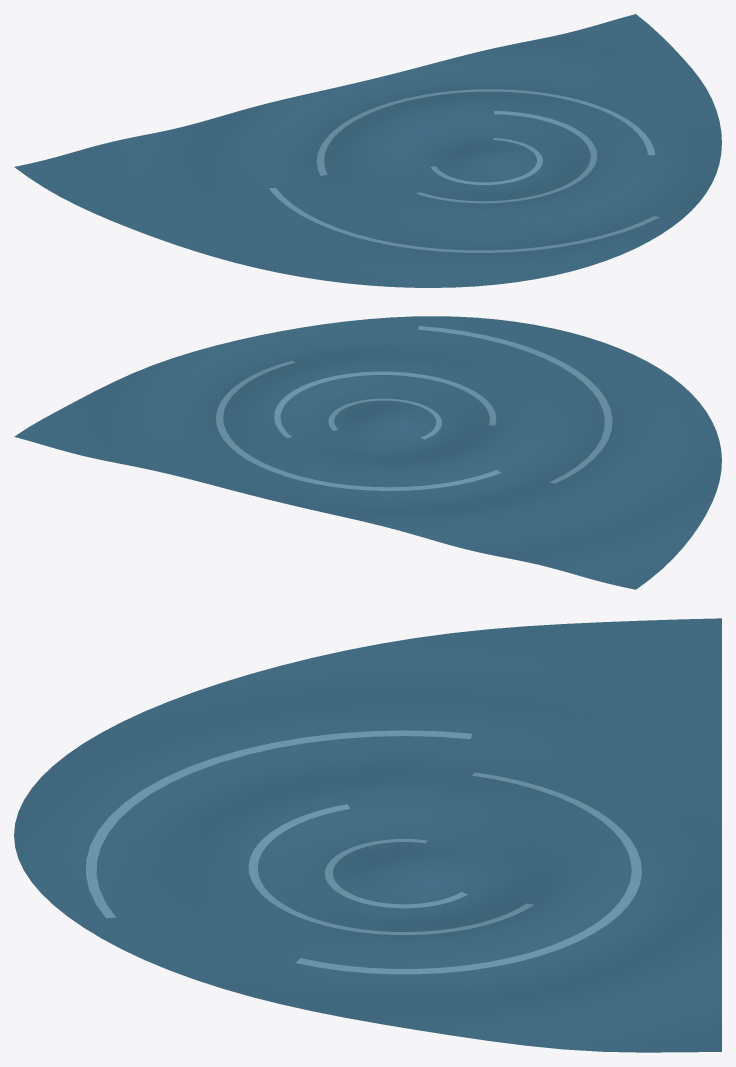
Rendered from wasser-stufe2.glb.
3 renders of one model, top to bottom at view 1: azimuth 30°, elevation 25°; view 2: azimuth 150°, elevation 25°; view 3: azimuth 270°, elevation 25°, orthographic. The views are drawn at different scales.
Parts seen in each view (by area): view 1: wasser2_flaeche, wasser2_ringe; view 2: wasser2_flaeche, wasser2_ringe; view 3: wasser2_flaeche, wasser2_ringe.
Boxes of the visible parts, x1,y1,x2,y2 form: wasser2_flaeche: (14,14,721,287); wasser2_ringe: (269,89,659,252); wasser2_flaeche: (14,316,721,589); wasser2_ringe: (216,326,612,490); wasser2_flaeche: (14,618,721,1052); wasser2_ringe: (86,730,641,974).
Size of the model in its own units: 38.11 by 0.3313 by 26.2.
